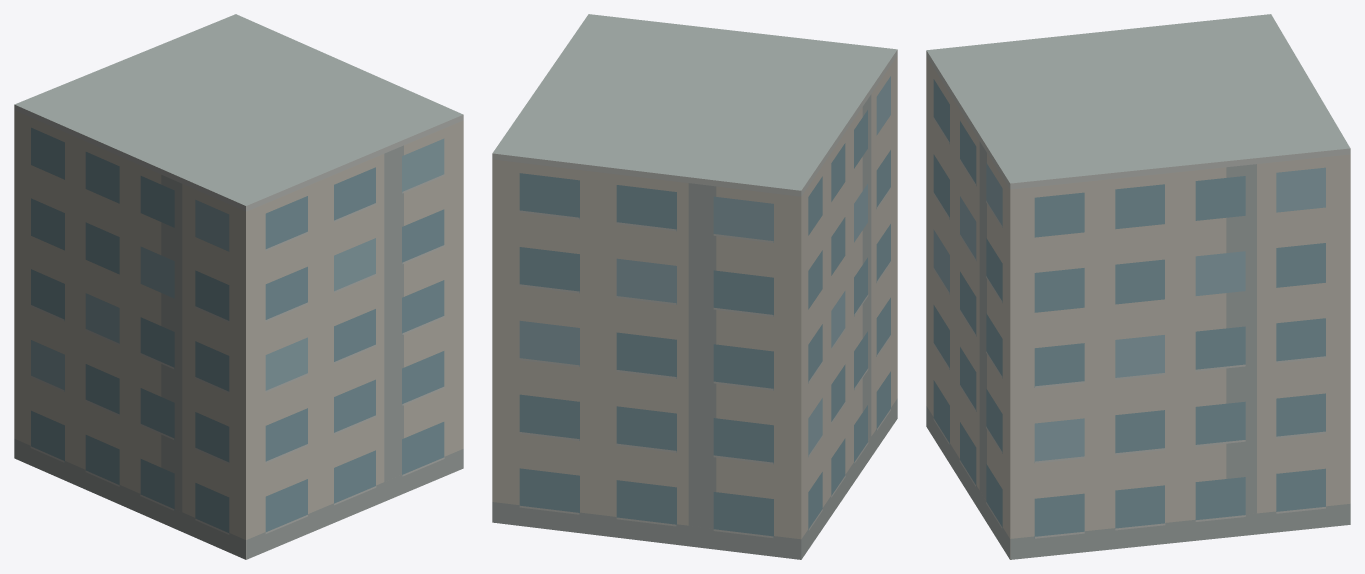
The model's file is survey-upis-32837665.glb.
The picture shows the model from 3 angles, left to right: view 1: azimuth 30°, elevation 25°; view 2: azimuth 150°, elevation 25°; view 3: azimuth 270°, elevation 25°; orthographic projection. The views are drawn at different scales.
Visible parts, largest first — view 1: survey-upis-32837665.tmp; view 2: survey-upis-32837665.tmp; view 3: survey-upis-32837665.tmp.
Boxes of the visible parts, x1,y1,x2,y2 form: survey-upis-32837665.tmp: [14, 14, 463, 559]; survey-upis-32837665.tmp: [492, 14, 897, 559]; survey-upis-32837665.tmp: [926, 14, 1350, 559].
Bounding box in the file's own units: 14.74 × 15.25 × 15.59.
